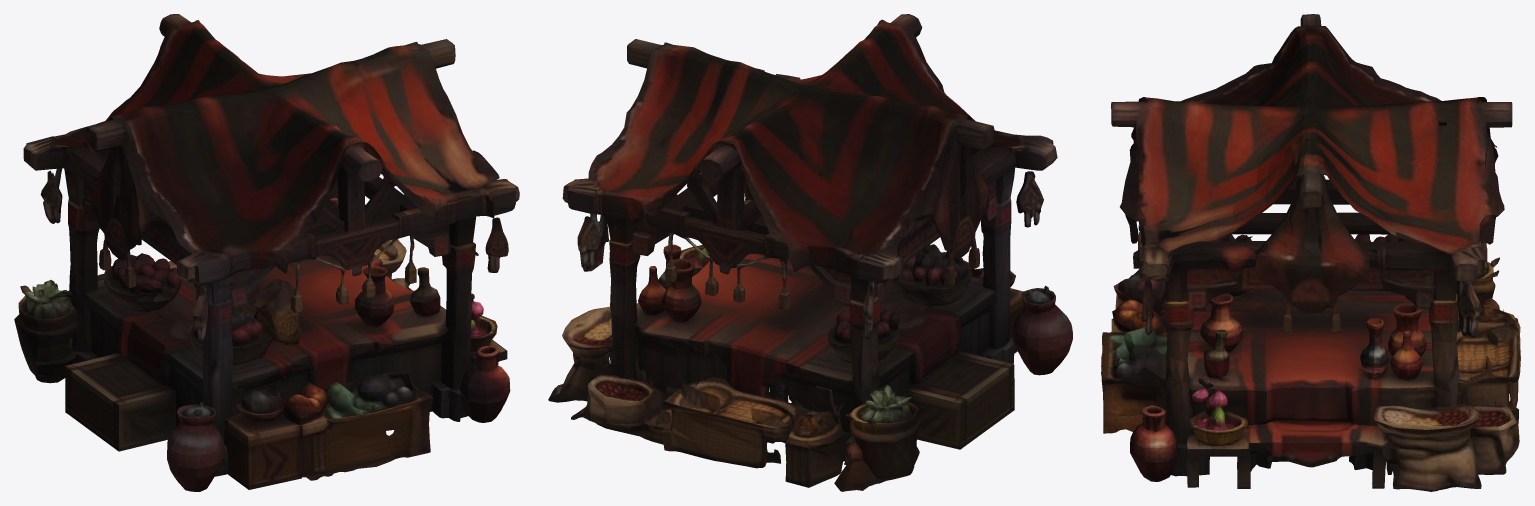
Rendered from stall.glb.
3 views of the same model, side by side, from view 1: azimuth 30°, elevation 25°; view 2: azimuth 150°, elevation 25°; view 3: azimuth 270°, elevation 25° (orthographic).
Visible parts, largest first — view 1: world; view 2: world; view 3: world.
Part boxes in pixels (x1,y1,x2,y2): world: (14,14,519,491); world: (548,14,1072,491); world: (1101,14,1520,491).
Size of the model in its own units: 0.9987 by 0.8262 by 0.9954.
Materials: 1 (1 with a texture image).
